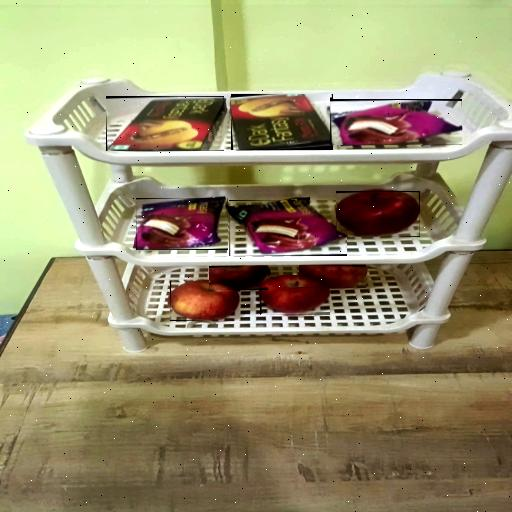Apple: (336, 191, 420, 237), (170, 281, 240, 321), (260, 276, 330, 316), (299, 265, 365, 288), (210, 266, 270, 290)
Choco Fills: (106, 96, 224, 151), (231, 94, 333, 150)
Choco Pie: (229, 200, 347, 256), (330, 99, 462, 145), (136, 198, 228, 250)
